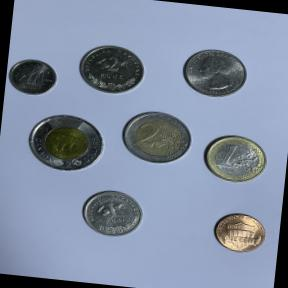coin: (21, 108, 110, 178), (116, 106, 198, 171), (176, 42, 254, 105), (73, 40, 150, 102), (197, 128, 272, 190), (208, 208, 272, 259), (4, 53, 62, 102)
